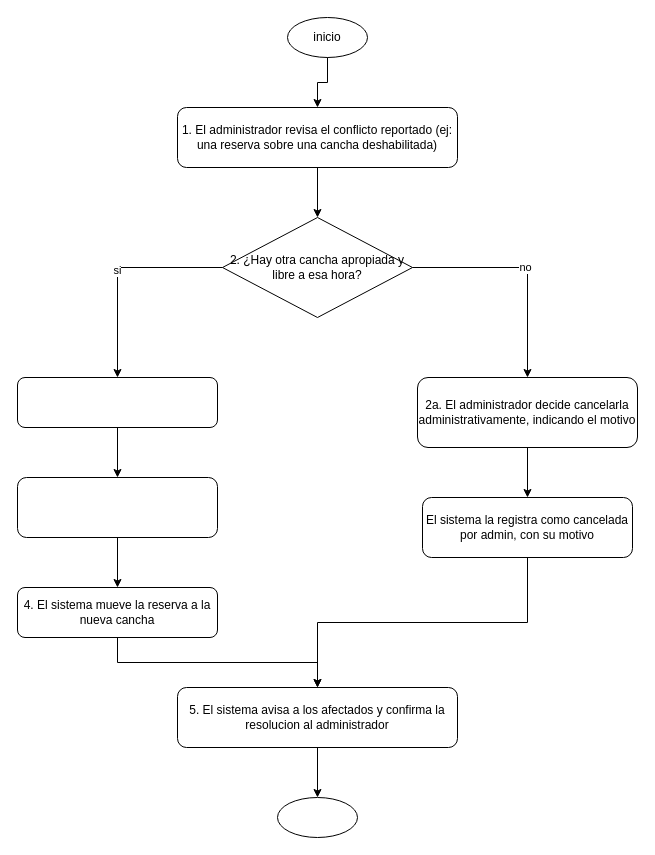
This 655x855 diagram has some shape labels left out. Each missing label, with the box of its shape:
2. El administrador decide reubicar la reserva: (16, 376, 218, 428)
3. El sistema revisa que la nueva cancha este libre a esa hora: (16, 476, 218, 538)
fin: (276, 796, 358, 838)
